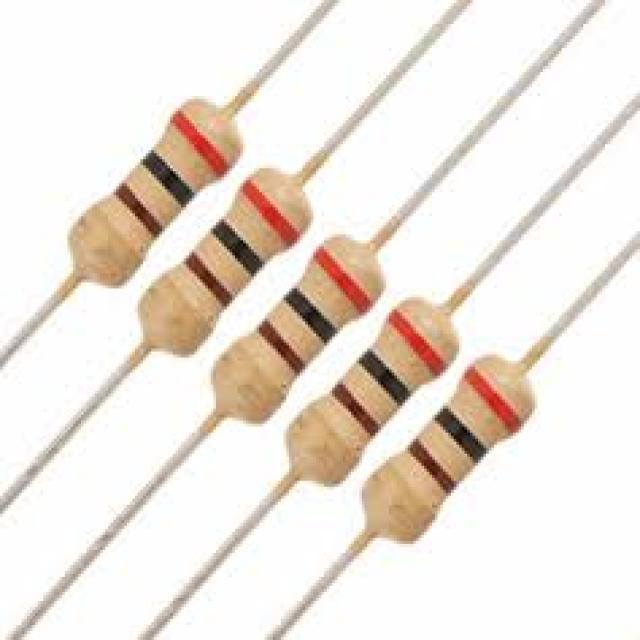Resistor: (367, 351, 532, 544), (70, 96, 238, 285), (294, 292, 455, 484), (216, 232, 377, 424), (144, 164, 306, 354)
